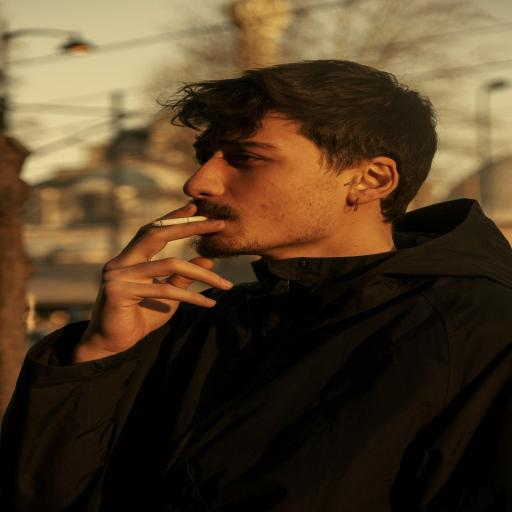terdeteksi merokok: (127, 135, 272, 267)
